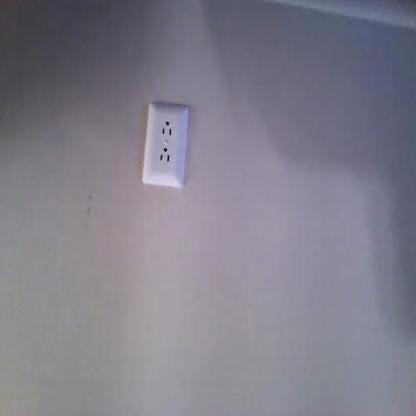OUTLET: (141, 103, 190, 186)
